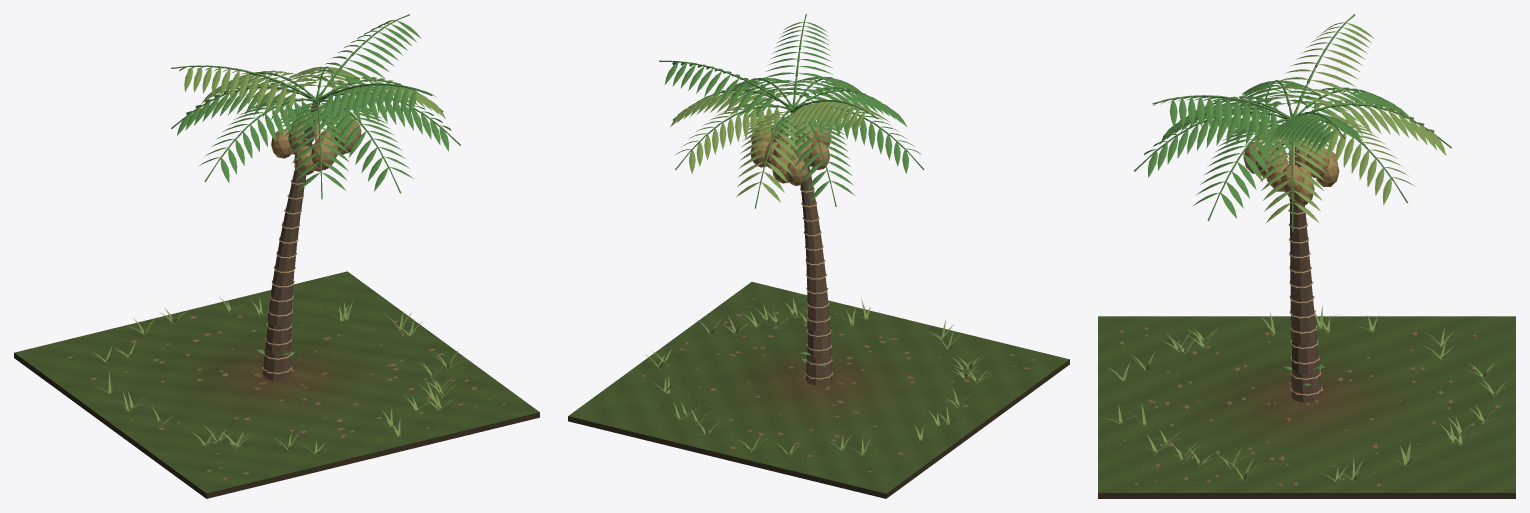
The model's file is palm-tree.glb.
The picture shows the model from 3 angles, left to right: view 1: azimuth 30°, elevation 25°; view 2: azimuth 150°, elevation 25°; view 3: azimuth 270°, elevation 25°; orthographic projection. The views are drawn at different scales.
Visible parts, largest first — view 1: Static_mesh, TreeTrunk_mesh, PalmLeaflets.007_mesh, PalmLeaflets.004_mesh, PalmLeaflets.002_mesh, PalmLeaflets.010_mesh, PalmLeaflets.009_mesh, PalmLeaflets.008_mesh, PalmLeaflets.001_mesh, PalmLeaflets.005_mesh, Coconuts.002_mesh, PalmLeaflets.006_mesh (+3 smaller); view 2: Static_mesh, TreeTrunk_mesh, PalmLeaflets.006_mesh, PalmLeaflets.001_mesh, PalmLeaflets.003_mesh, PalmLeaflets.008_mesh, PalmLeaflets.009_mesh, PalmLeaflets.010_mesh, PalmLeaflets.004_mesh, PalmLeaflets_mesh, Coconuts.001_mesh, PalmLeaflets.007_mesh (+3 smaller); view 3: Static_mesh, TreeTrunk_mesh, PalmLeaflets.010_mesh, PalmLeaflets.005_mesh, PalmLeaflets_mesh, PalmLeaflets.006_mesh, PalmLeaflets.003_mesh, PalmLeaflets.002_mesh, PalmLeaflets.009_mesh, PalmLeaflets.008_mesh, Coconuts_mesh, PalmLeaflets.001_mesh (+3 smaller).
Boxes of the visible parts, <box> form: Static_mesh: <box>14,271,539,498</box>; TreeTrunk_mesh: <box>262,101,319,380</box>; PalmLeaflets.007_mesh: <box>280,102,356,191</box>; PalmLeaflets.004_mesh: <box>198,97,313,182</box>; PalmLeaflets.002_mesh: <box>306,100,413,191</box>; PalmLeaflets.010_mesh: <box>323,84,436,119</box>; PalmLeaflets.009_mesh: <box>179,65,296,114</box>; PalmLeaflets.008_mesh: <box>311,20,421,95</box>; PalmLeaflets.001_mesh: <box>177,83,296,135</box>; PalmLeaflets.005_mesh: <box>340,88,451,151</box>; Coconuts.002_mesh: <box>294,134,338,175</box>; PalmLeaflets.006_mesh: <box>201,70,317,103</box>; Static_mesh: <box>568,282,1069,498</box>; TreeTrunk_mesh: <box>790,111,833,385</box>; PalmLeaflets.006_mesh: <box>736,111,821,202</box>; PalmLeaflets.001_mesh: <box>767,114,855,201</box>; PalmLeaflets.003_mesh: <box>675,102,780,173</box>; PalmLeaflets.008_mesh: <box>664,61,774,117</box>; PalmLeaflets.009_mesh: <box>785,101,889,134</box>; PalmLeaflets.010_mesh: <box>762,22,835,96</box>; PalmLeaflets.004_mesh: <box>809,103,921,173</box>; PalmLeaflets_mesh: <box>670,86,781,127</box>; Coconuts.001_mesh: <box>772,140,809,185</box>; PalmLeaflets.007_mesh: <box>804,87,907,127</box>; Static_mesh: <box>1098,316,1515,498</box>; TreeTrunk_mesh: <box>1288,139,1322,402</box>; PalmLeaflets.010_mesh: <box>1153,95,1277,137</box>; PalmLeaflets.005_mesh: <box>1193,120,1307,218</box>; PalmLeaflets_mesh: <box>1250,124,1336,222</box>; PalmLeaflets.006_mesh: <box>1314,100,1446,155</box>; PalmLeaflets.003_mesh: <box>1296,116,1413,205</box>; PalmLeaflets.002_mesh: <box>1144,107,1270,177</box>; PalmLeaflets.009_mesh: <box>1268,22,1374,111</box>; PalmLeaflets.008_mesh: <box>1269,113,1365,152</box>; Coconuts_mesh: <box>1268,160,1314,204</box>; PalmLeaflets.001_mesh: <box>1289,87,1408,125</box>.
Bounding box in the file's own units: 3.5 × 3.27 × 3.5.
